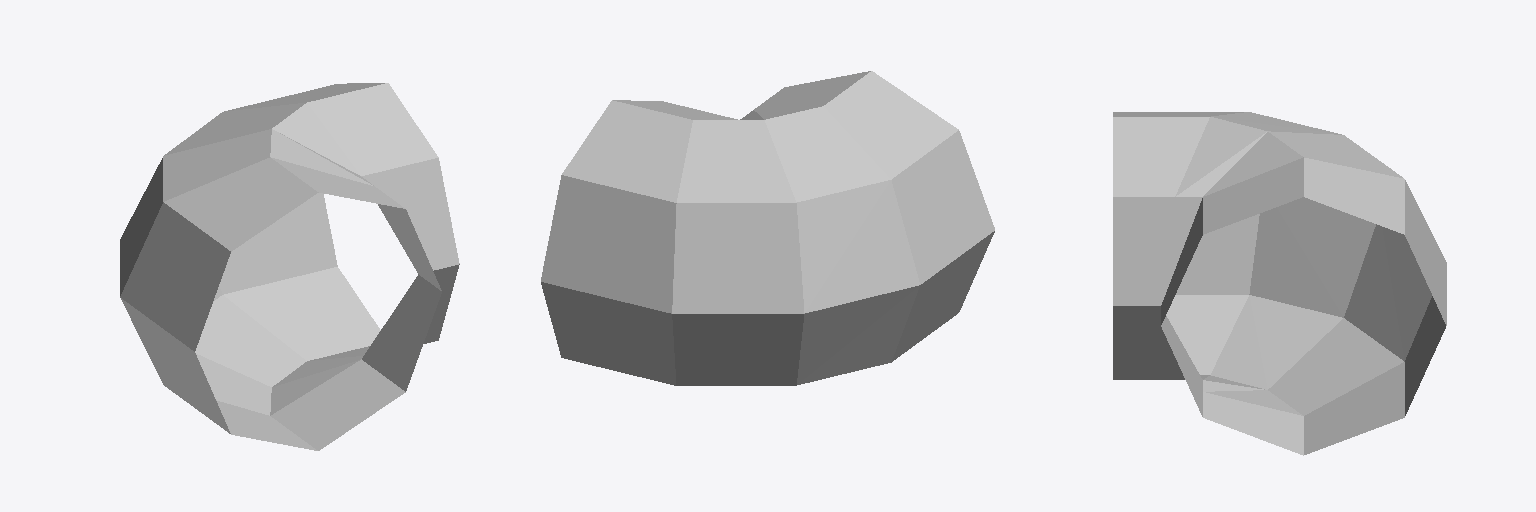
File: ss_pipe_elbow_prone.obj
3 views of the same model, side by side, from view 1: azimuth 30°, elevation 25°; view 2: azimuth 150°, elevation 25°; view 3: azimuth 270°, elevation 25° (orthographic).
Visible parts, largest first — view 1: ss_pipe_elbow_prone_Cylinder.000; view 2: ss_pipe_elbow_prone_Cylinder.000; view 3: ss_pipe_elbow_prone_Cylinder.000.
Part boxes in pixels (bbox=[...]): ss_pipe_elbow_prone_Cylinder.000: bbox=[120, 83, 459, 450]; ss_pipe_elbow_prone_Cylinder.000: bbox=[541, 71, 994, 385]; ss_pipe_elbow_prone_Cylinder.000: bbox=[1113, 112, 1446, 455].
Size of the model in its own units: 0.875 by 0.75 by 0.875.